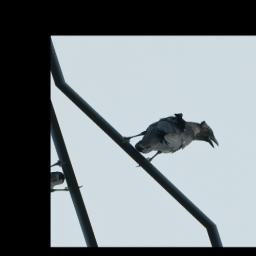Crow: (113, 105, 225, 175)
